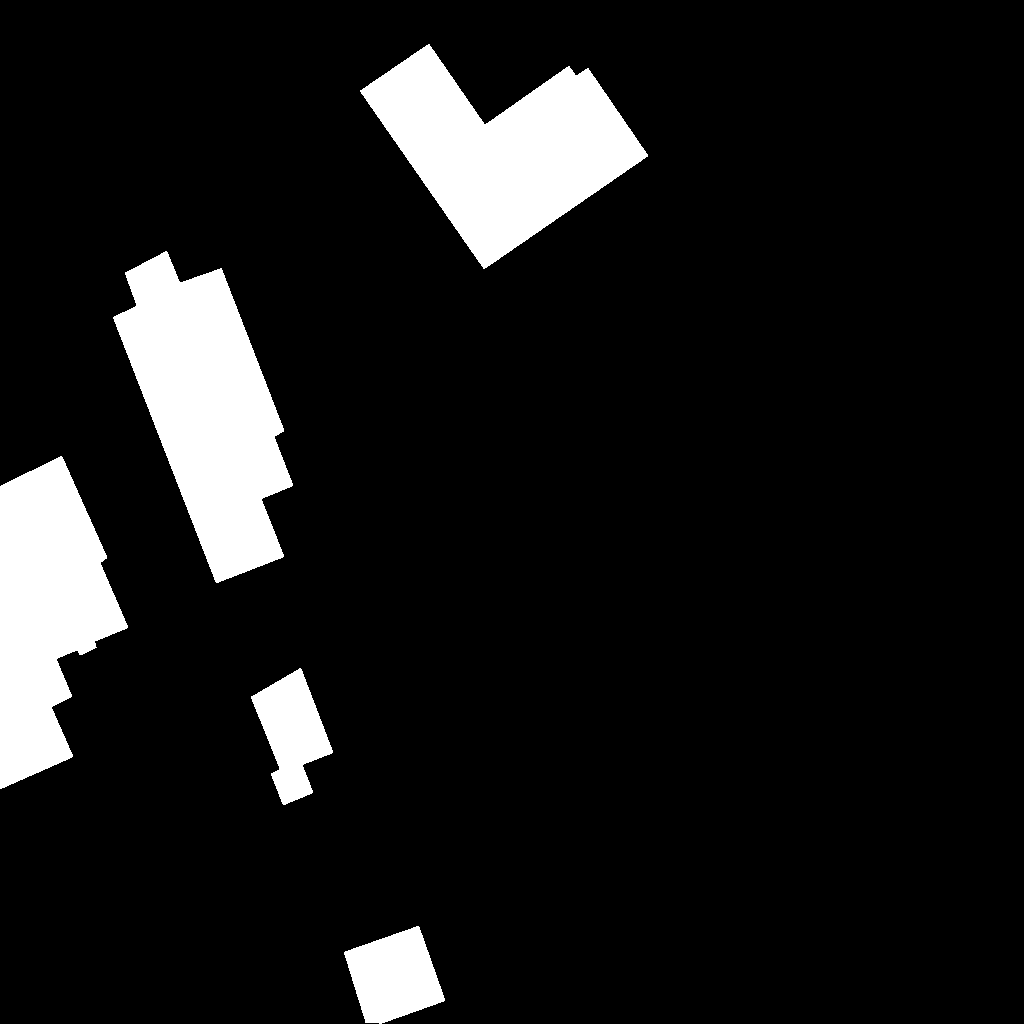building: (360, 44, 649, 270), (113, 251, 294, 584), (0, 456, 129, 790), (251, 668, 334, 806), (344, 926, 446, 1024)
